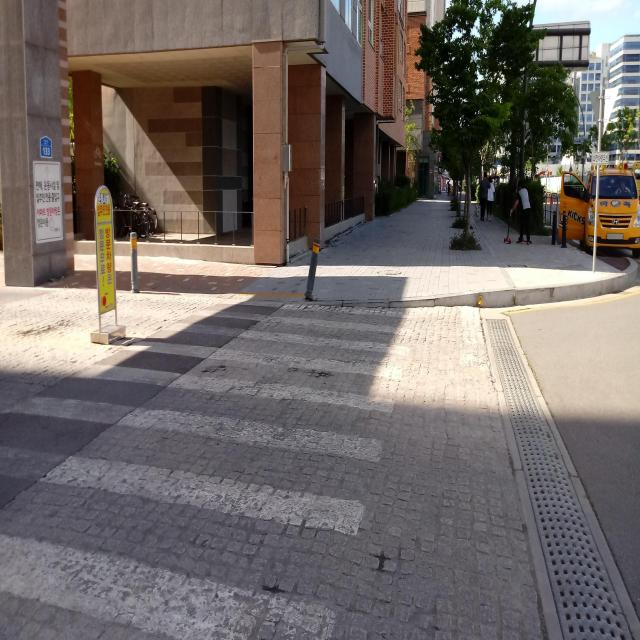횡단보도: (0, 296, 424, 640)
